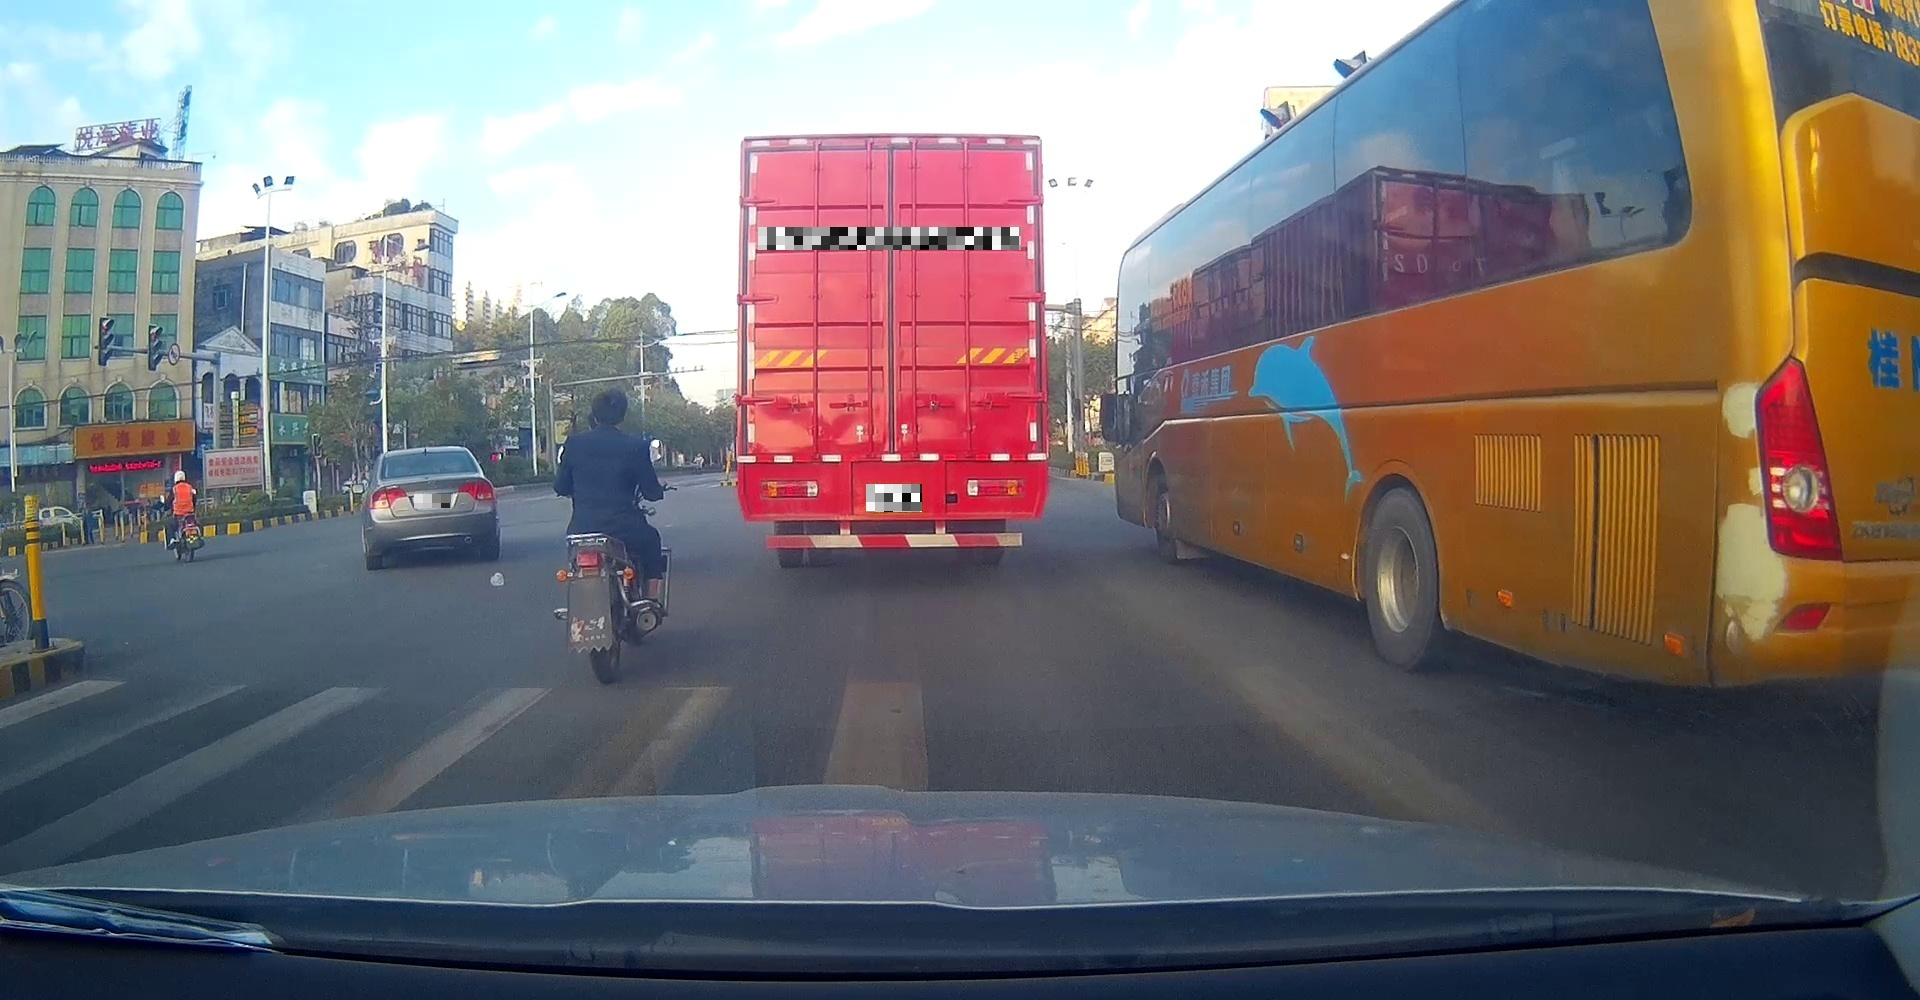L_light: (759, 478, 819, 500), (364, 484, 408, 509)
R_light: (966, 478, 1025, 497), (458, 477, 497, 500)
T_light: (872, 146, 914, 161), (417, 451, 434, 457)
day-left: (364, 445, 500, 569)
day-no: (735, 135, 1049, 566)
plate_1: (414, 494, 451, 508)
plate_2: (758, 227, 1021, 250)
plate_3: (866, 484, 922, 511)
